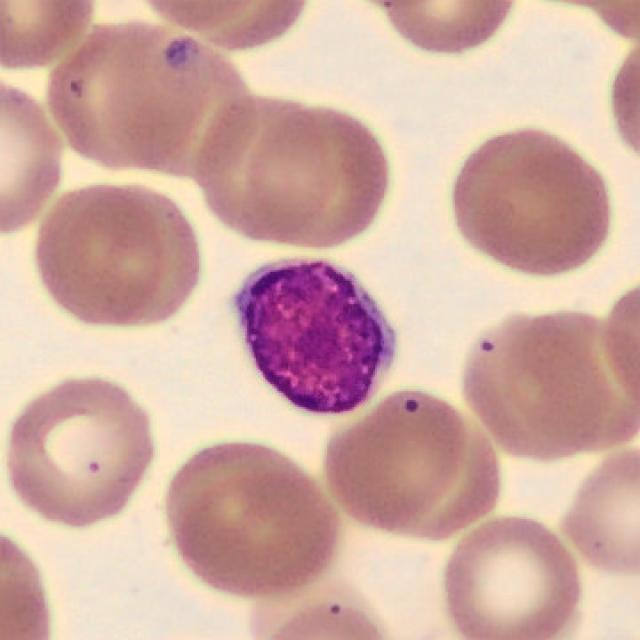Linfocito: (236, 261, 393, 412)
